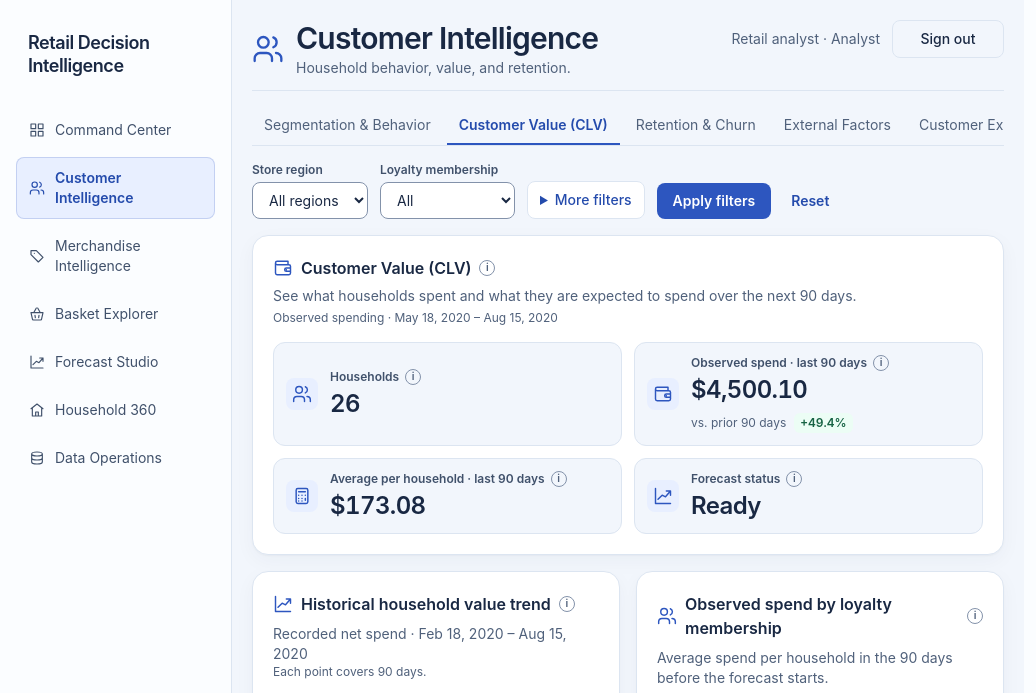
Test: Customer Value › dismisses More filters on an outside click while keeping the filter draft
The image size is (1036, 693).
Click the heading "More filters" at x=586, y=200, box [527,181,645,219]
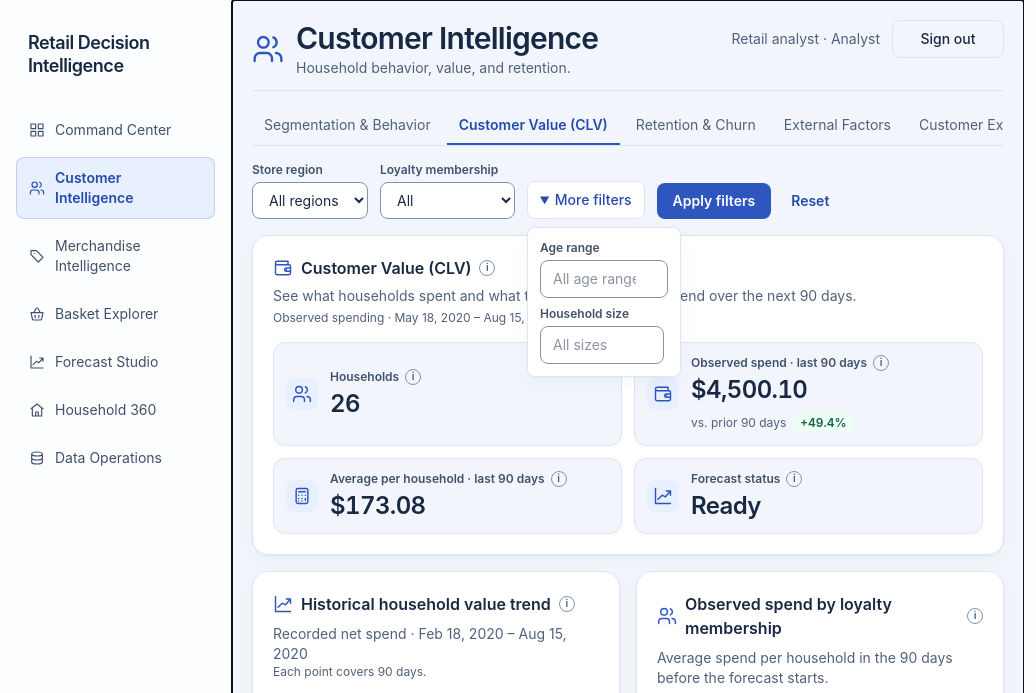
Type "25-34" into the field labelled "Age range" at x=604, y=279, box [540,260,668,298]
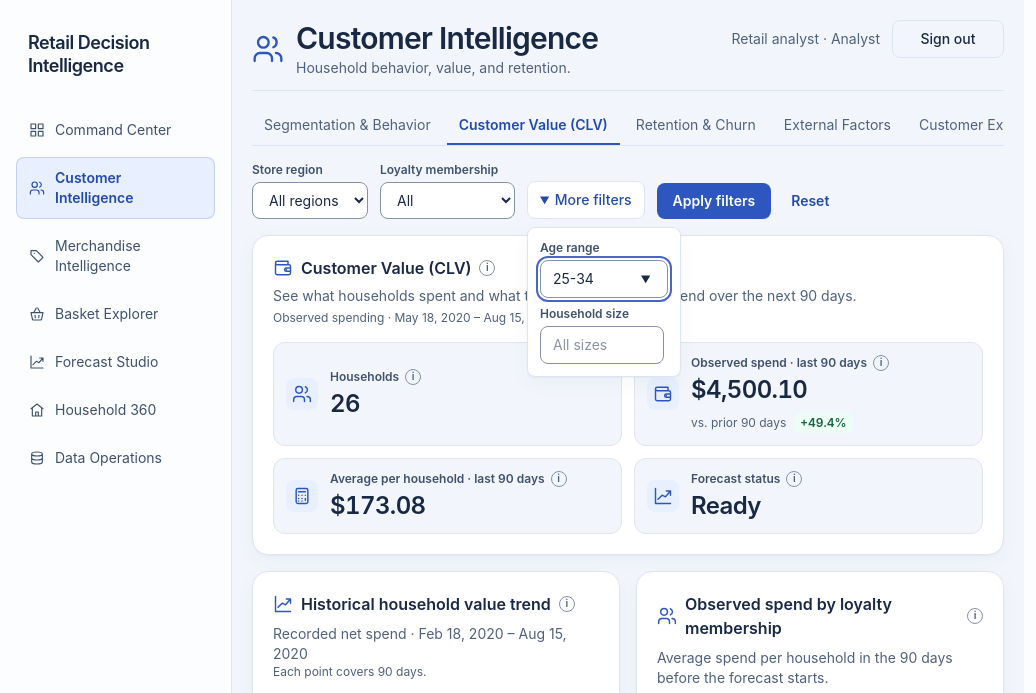
Now the text "More filters" has attribute open, box [527,181,645,219]
Click the heading "Customer Intelligence" at x=447, y=38, box [296,20,598,56]
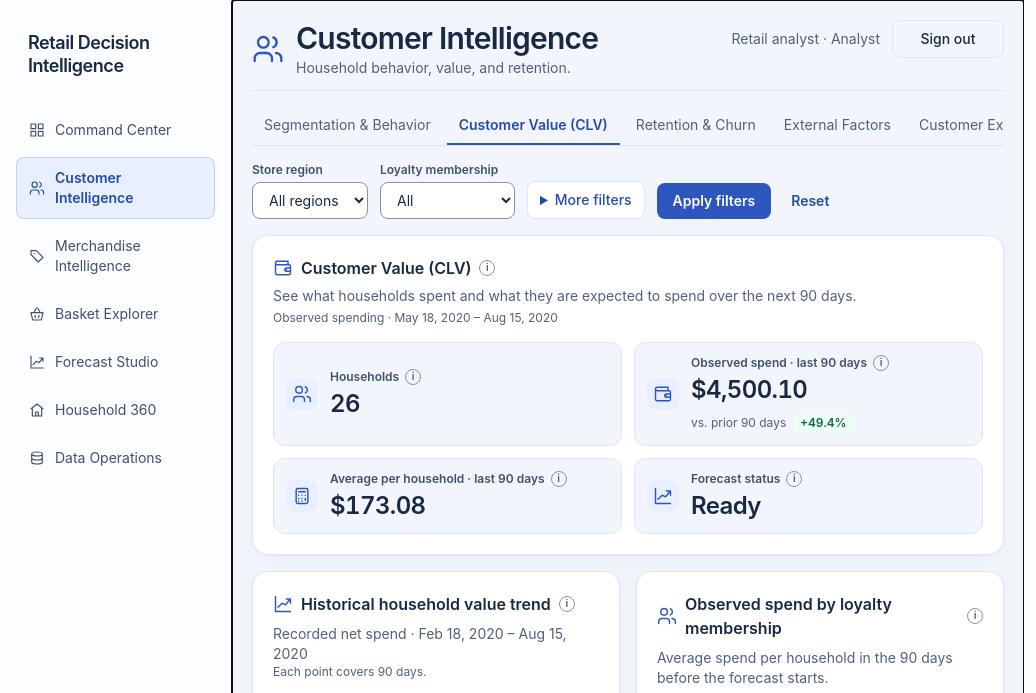
Now the text "More filters" does not have attribute open
Click the heading "More filters" at x=586, y=200, box [527,181,645,219]
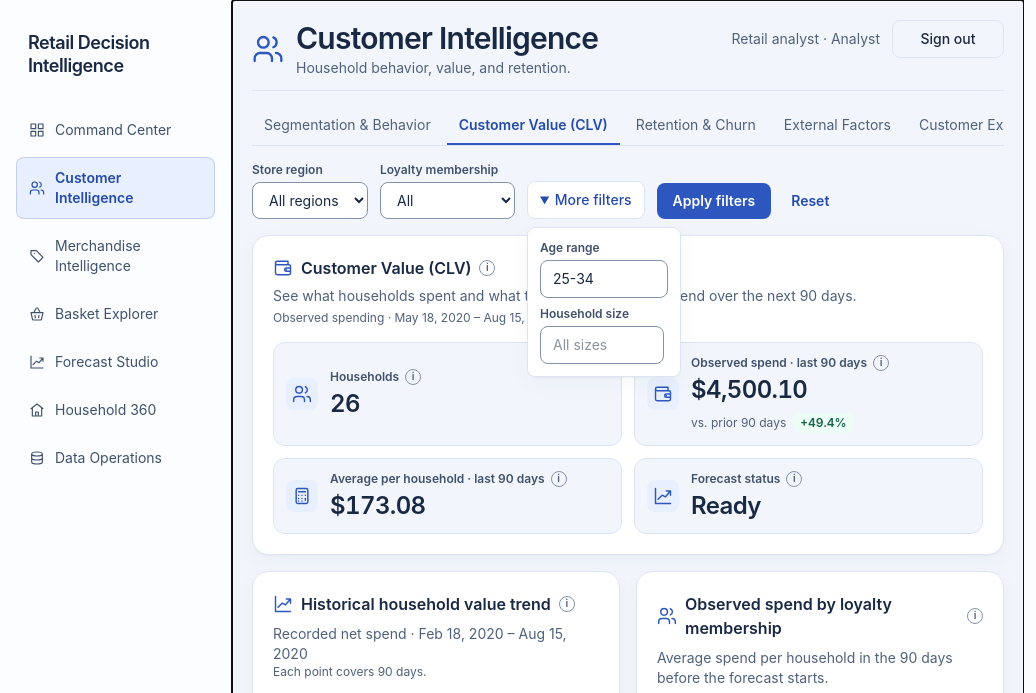
Click the button "Apply filters" at x=714, y=201, box [657,183,771,219]
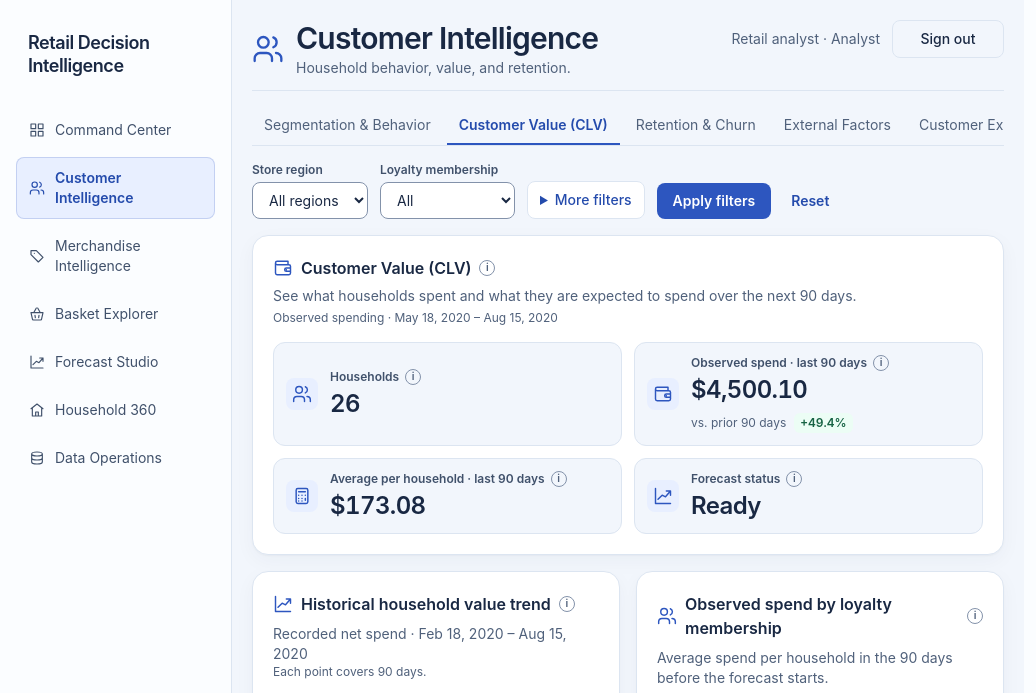
Now the text "More filters" does not have attribute open, box [527,181,645,219]
